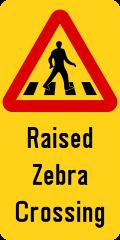Pedestrian Crossing: (6, 9, 115, 122)
